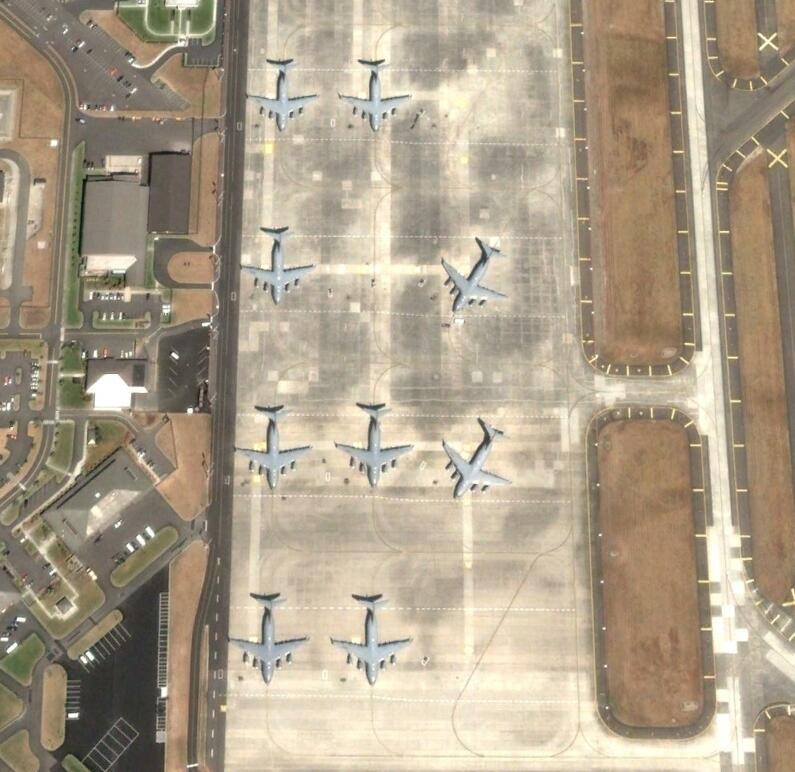A3: (331, 594, 413, 684), (232, 405, 316, 491), (229, 592, 307, 683), (337, 402, 417, 490), (241, 223, 320, 305), (440, 419, 514, 499), (338, 58, 417, 132), (245, 57, 319, 132), (440, 239, 510, 315)
